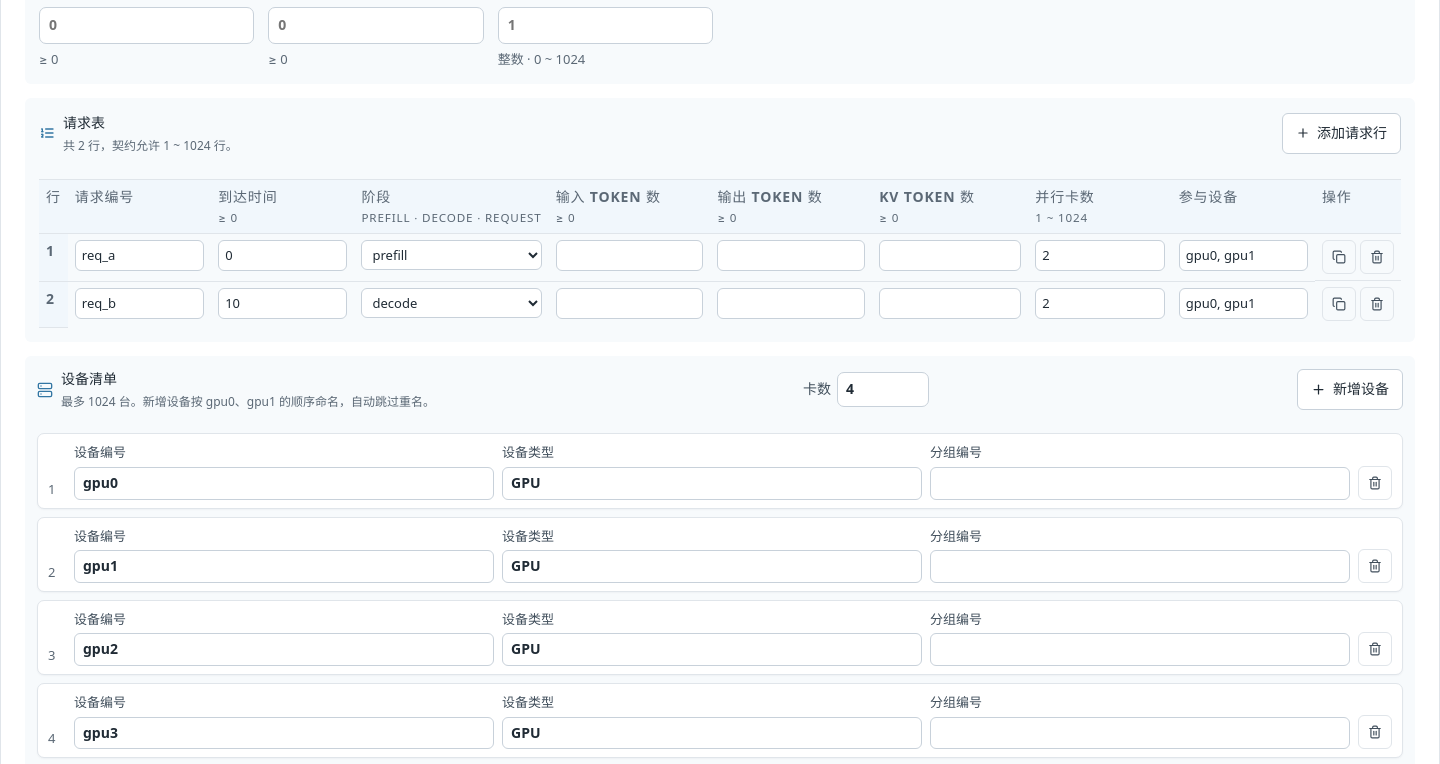
Test: structured input panel › adds exactly one device from the entry button and routes it through the pairing prompt
(page scrolled)
Click the button "新增设备" at (1350, 390), box [1297, 369, 1403, 410]
(page scrolled)
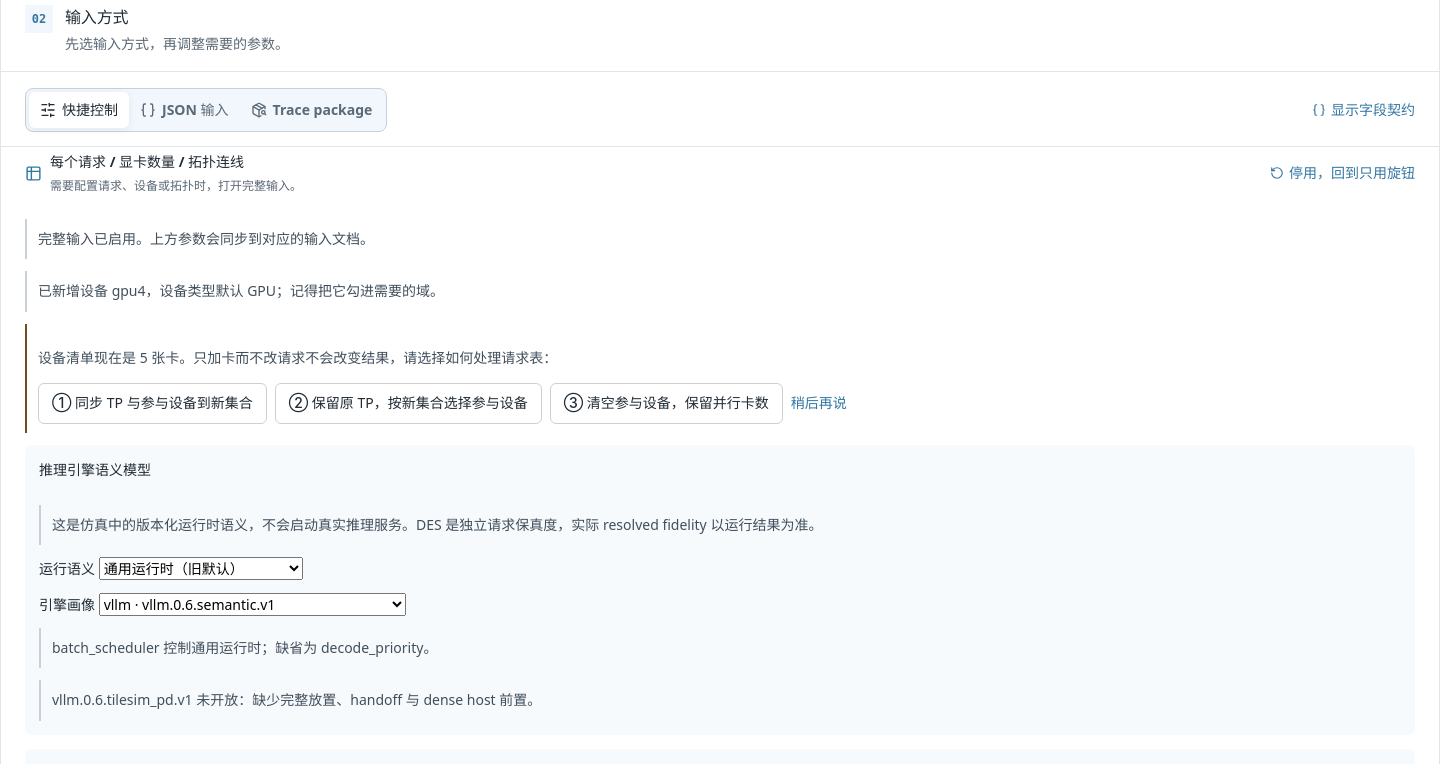
Now the message with class "structured-note--warning" shows "5 张卡", box [38, 348, 557, 367]
